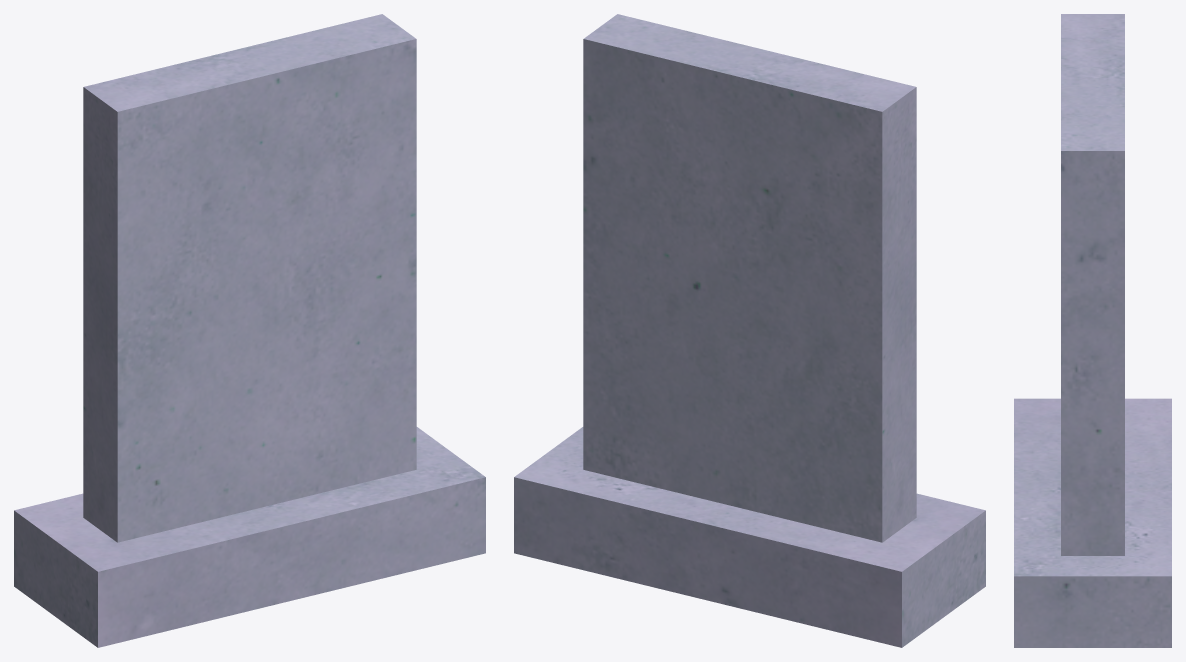
Rendered from g_gravestone_02.fbx.
3 renders of one model, left to right at view 1: azimuth 30°, elevation 25°; view 2: azimuth 150°, elevation 25°; view 3: azimuth 270°, elevation 25°, orthographic. The views are drawn at different scales.
Visible parts, largest first — view 1: g_gstn_02; view 2: g_gstn_02; view 3: g_gstn_02.
Boxes of the visible parts, <box> form: g_gstn_02: <box>14,14,485,647</box>; g_gstn_02: <box>514,14,985,647</box>; g_gstn_02: <box>1014,14,1171,647</box>.
Bounding box in the file's own units: 80 × 99.9 × 30.
